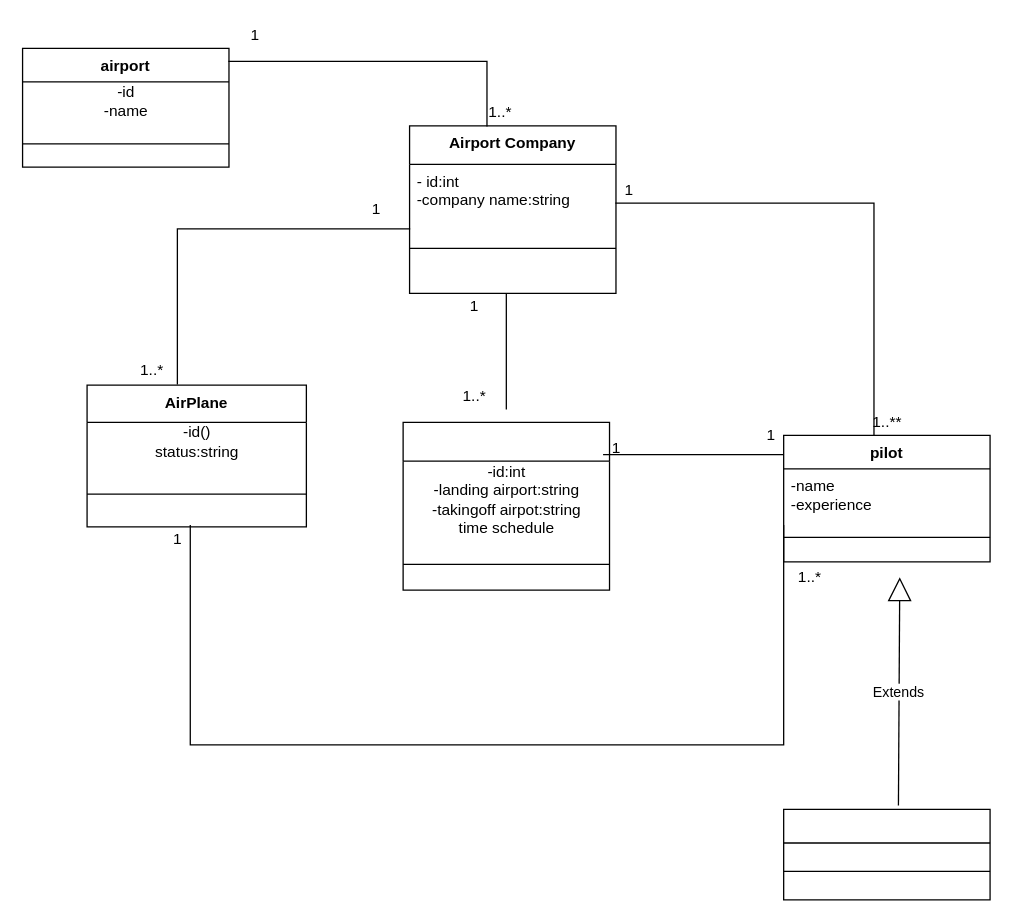
Image size: 1013x922. Some labels were removed from this diagram. Each missing label, with the box of its shape:
copilot: (782, 808, 990, 900)
Flight: (402, 421, 610, 590)
